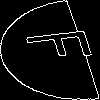F: (24, 25, 100, 64)
